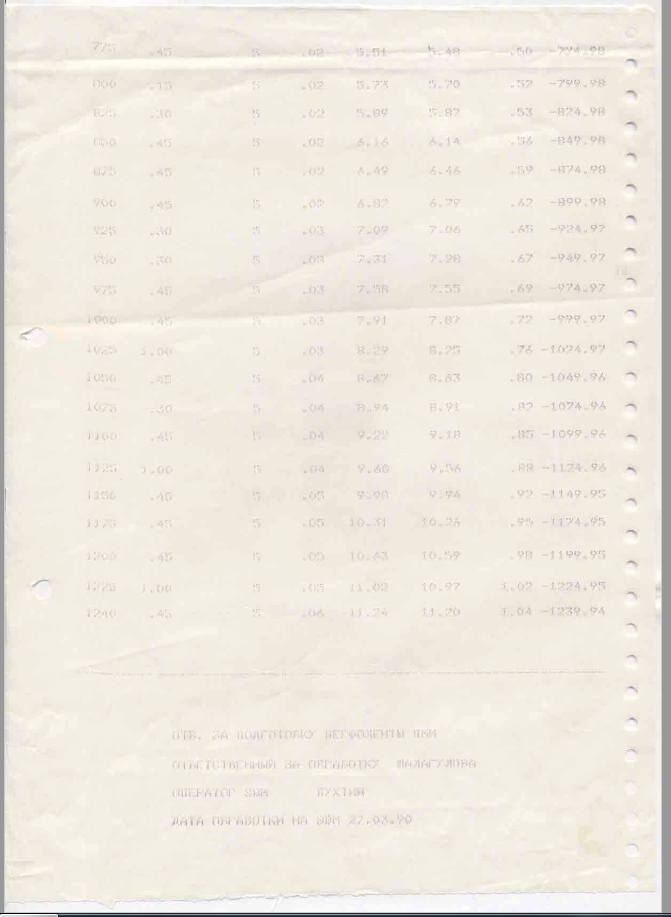Borderless: (57, 27, 618, 670)
